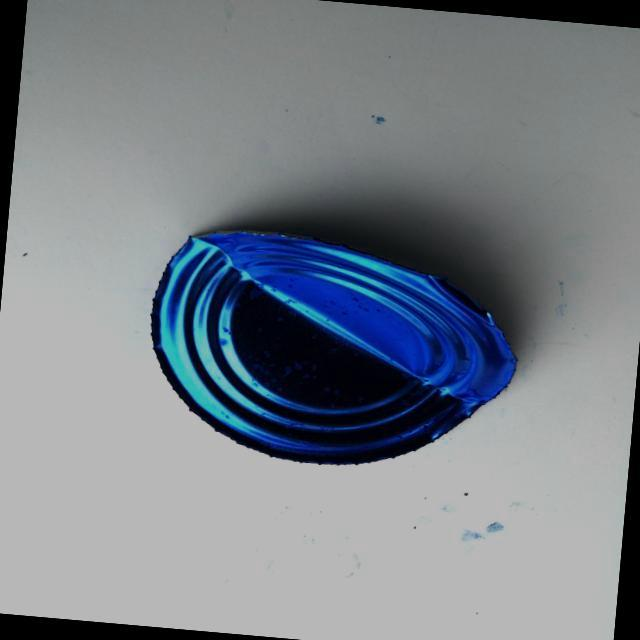metal: (128, 209, 530, 488)
